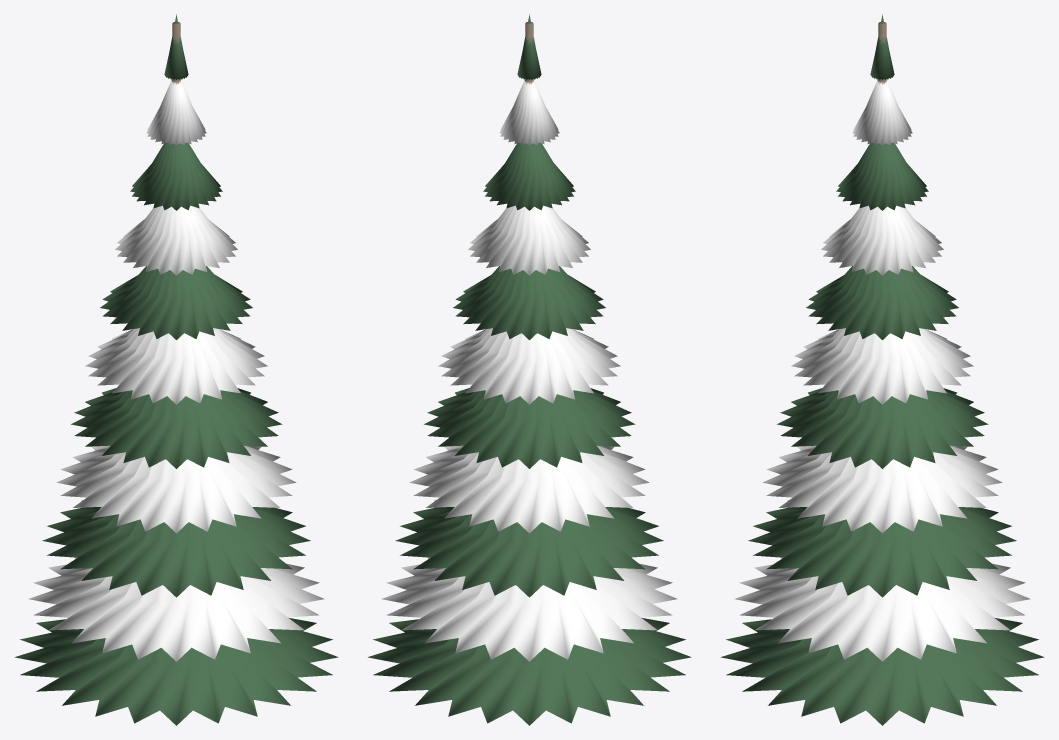
Rendered from tree-spruce.glb.
3 views of the same model, side by side, from view 1: azimuth 30°, elevation 25°; view 2: azimuth 150°, elevation 25°; view 3: azimuth 270°, elevation 25° (orthographic).
Visible parts, largest first — view 1: Needle tier, Needle tier.001, Needle tier.002, Needle tier.003, Needle tier.004, Needle tier.005, Needle tier.006, Needle tier.007, Needle tier.008, Needle tier.009, Needle tier.010; view 2: Needle tier, Needle tier.001, Needle tier.002, Needle tier.003, Needle tier.004, Needle tier.005, Needle tier.006, Needle tier.007, Needle tier.008, Needle tier.009, Needle tier.010; view 3: Needle tier, Needle tier.001, Needle tier.002, Needle tier.003, Needle tier.004, Needle tier.005, Needle tier.006, Needle tier.007, Needle tier.008, Needle tier.009, Needle tier.010.
Part boxes in pixels (x1,y1,x2,y2): Needle tier: [15, 617, 338, 725]; Needle tier.001: [28, 557, 324, 661]; Needle tier.002: [42, 500, 310, 597]; Needle tier.003: [56, 445, 296, 533]; Needle tier.004: [71, 388, 282, 468]; Needle tier.005: [85, 328, 267, 404]; Needle tier.006: [100, 266, 252, 339]; Needle tier.007: [115, 205, 237, 275]; Needle tier.008: [130, 142, 222, 210]; Needle tier.009: [146, 80, 206, 145]; Needle tier.010: [164, 14, 188, 79]; Needle tier: [368, 617, 691, 725]; Needle tier.001: [381, 557, 677, 661]; Needle tier.002: [395, 500, 663, 597]; Needle tier.003: [409, 445, 649, 533]; Needle tier.004: [424, 388, 635, 468]; Needle tier.005: [438, 328, 620, 404]; Needle tier.006: [453, 266, 605, 339]; Needle tier.007: [468, 205, 590, 275]; Needle tier.008: [483, 142, 575, 210]; Needle tier.009: [499, 80, 559, 145]; Needle tier.010: [517, 14, 541, 79]; Needle tier: [721, 617, 1044, 725]; Needle tier.001: [734, 557, 1030, 661]; Needle tier.002: [748, 500, 1016, 597]; Needle tier.003: [762, 445, 1002, 533]; Needle tier.004: [777, 388, 988, 468]; Needle tier.005: [791, 328, 973, 404]; Needle tier.006: [806, 266, 958, 339]; Needle tier.007: [821, 205, 943, 275]; Needle tier.008: [836, 142, 928, 210]; Needle tier.009: [852, 80, 912, 145]; Needle tier.010: [870, 14, 894, 79].
Bounding box in the file's own units: 3.2 × 7.5 × 3.2.
